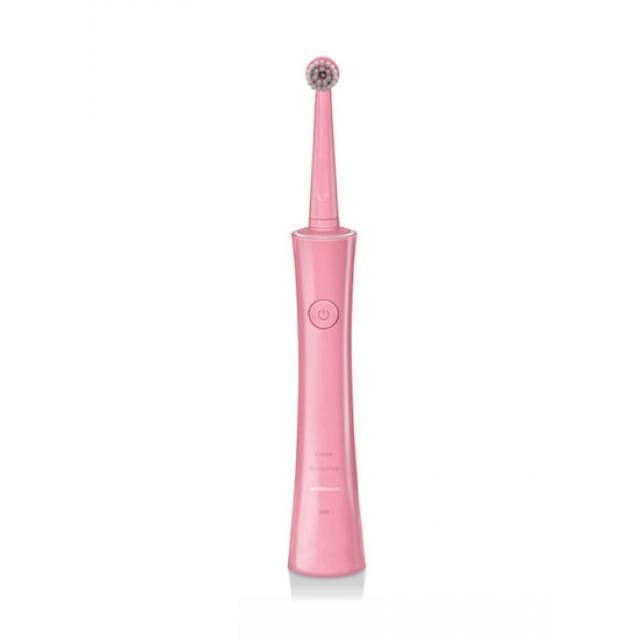toothbrush: (262, 40, 390, 622)
